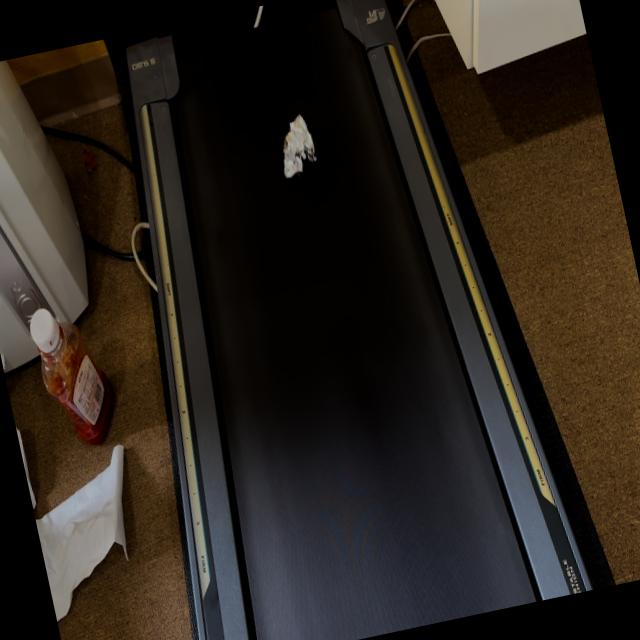Trash: (274, 112, 324, 186)
